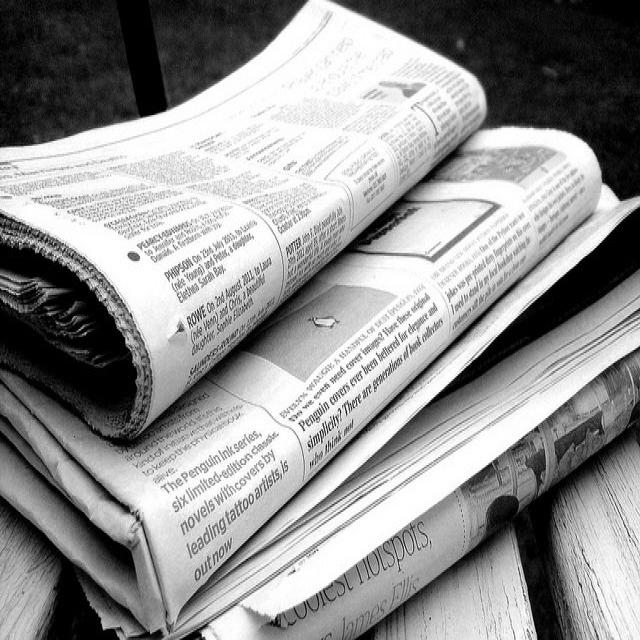newspaper: (0, 0, 640, 404), (0, 393, 640, 640)
